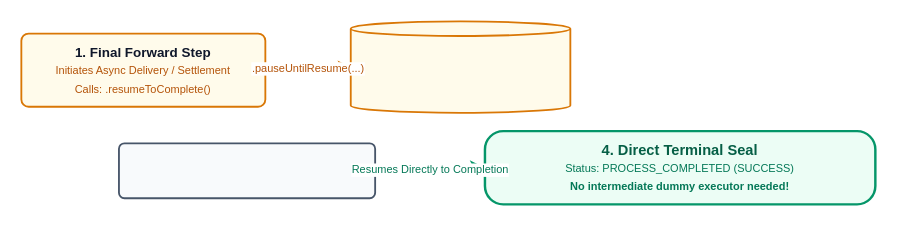
Image size: 898x227. Some labels were removed from this diagram. Here are the shapes that lost their labels. From the top down, the centre of each, then its label:
[460,66]: 2. SEC Paused State Sets is_paused = 1 in DB Thread released (Sleep)
[246,170]: 3. External Callback SagaTemplate.resume(resumeKey)
